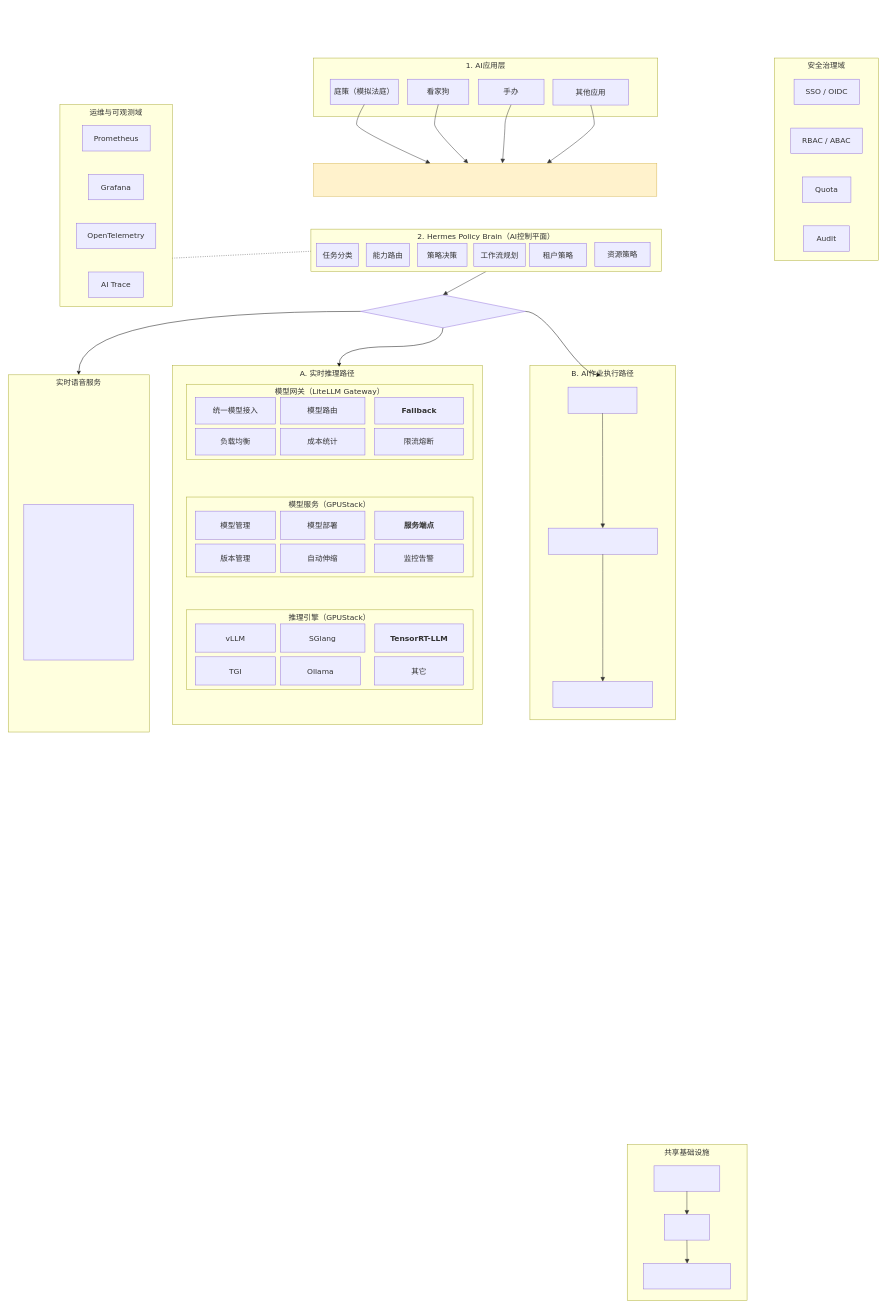
The diagram is 887 pixels wide and 1309 high, and some of its shapes have lost their labels. The centre of each missing label's shape, as x and y in pixels:
AIWorkload Operator: [602,541]
FunASR Streaming Service: [78,582]
GPU / NPU / CPU: [687,1276]
HAMi: [686,1227]
Kubernetes: [687,1178]
Nginx 统一入口: [485,179]
OpenClaw: [602,400]
Volcano Scheduler: [602,694]
执行路径决策: [442,311]
